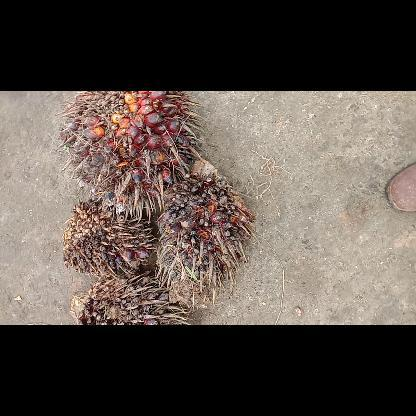TBS abnormal: (158, 160, 252, 302), (62, 198, 158, 276), (68, 278, 190, 324)
TBS masak: (61, 90, 193, 212)
